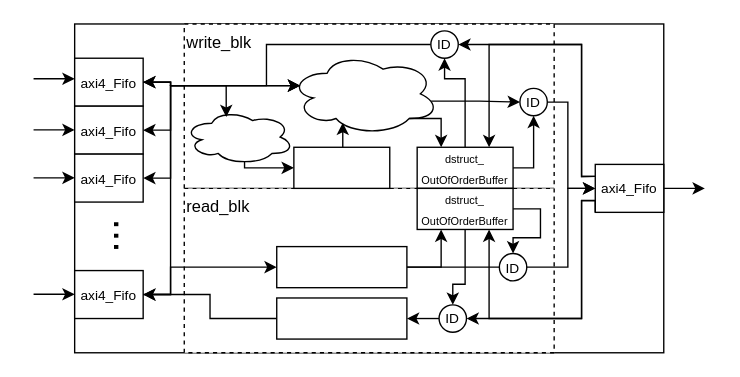
Image size: 740x377. Some labels were removed from this diagram. The centre of each missing label's shape, as x and y in pixels:
arbiter FSM: (x=363, y=93)
axi4stream_DeMux: (x=341, y=318)
axi4stream_Mux: (x=341, y=266)
bus_Arbiter: (x=341, y=167)
request: (x=238, y=136)
